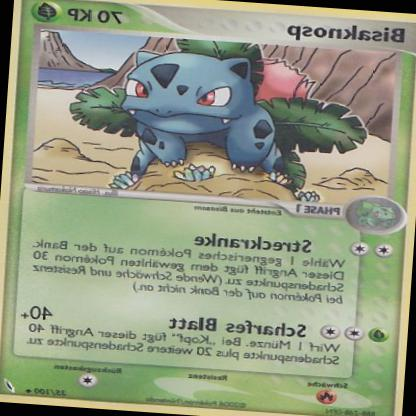Ivysaur: (59, 33, 375, 210)
